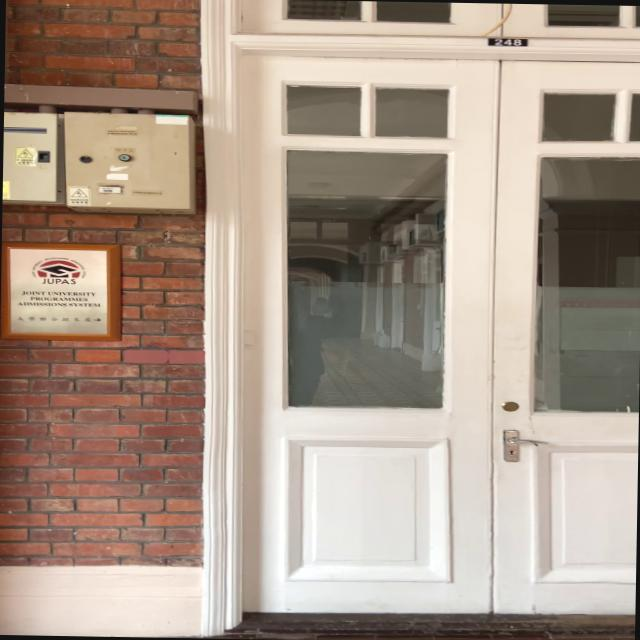room248: (478, 31, 532, 50)
